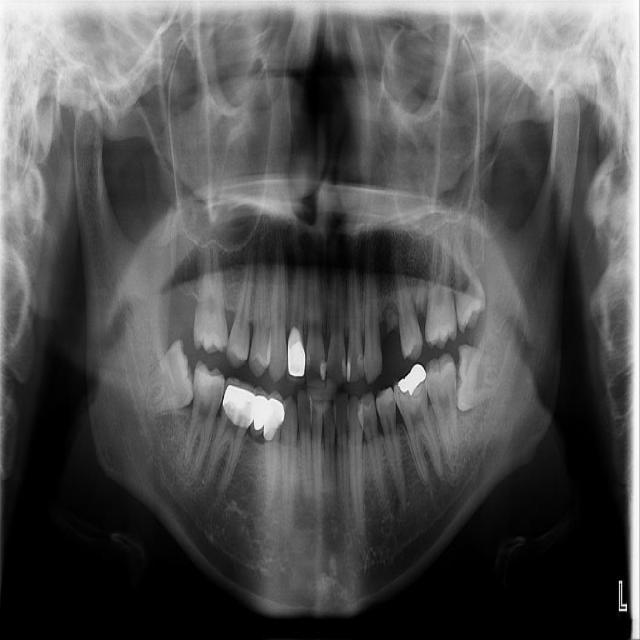52: (209, 375, 292, 444), (384, 362, 441, 421), (189, 360, 227, 414), (325, 335, 347, 390), (373, 385, 400, 428), (286, 326, 306, 384), (305, 333, 325, 389), (347, 341, 364, 382)
73: (569, 510, 574, 518)
BioHorizons Implant: (425, 217, 457, 348)
BioLife Implant: (448, 211, 489, 334)
Biomet 3i Implant: (449, 343, 506, 417)
Blue Sky Bio Implant: (423, 352, 461, 470)
Caries: (184, 221, 230, 354)
Implant: (182, 359, 227, 474)
Keystone Dental Implant: (134, 338, 200, 415)
